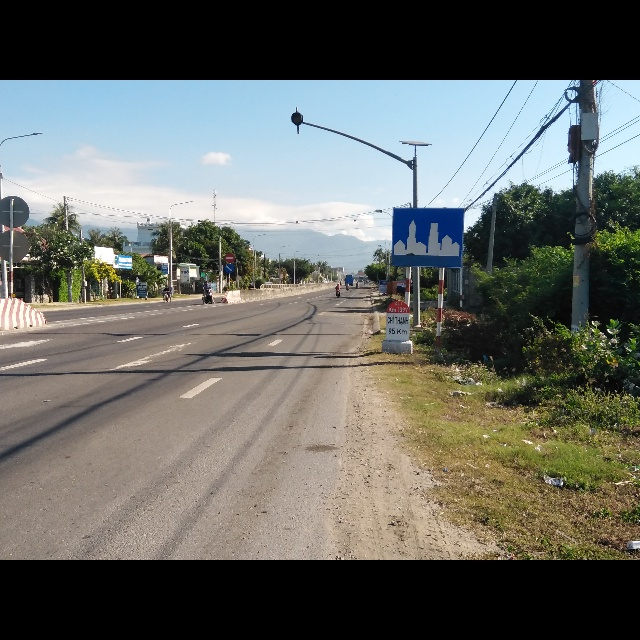Khu đông dân cư: (389, 206, 465, 269)
